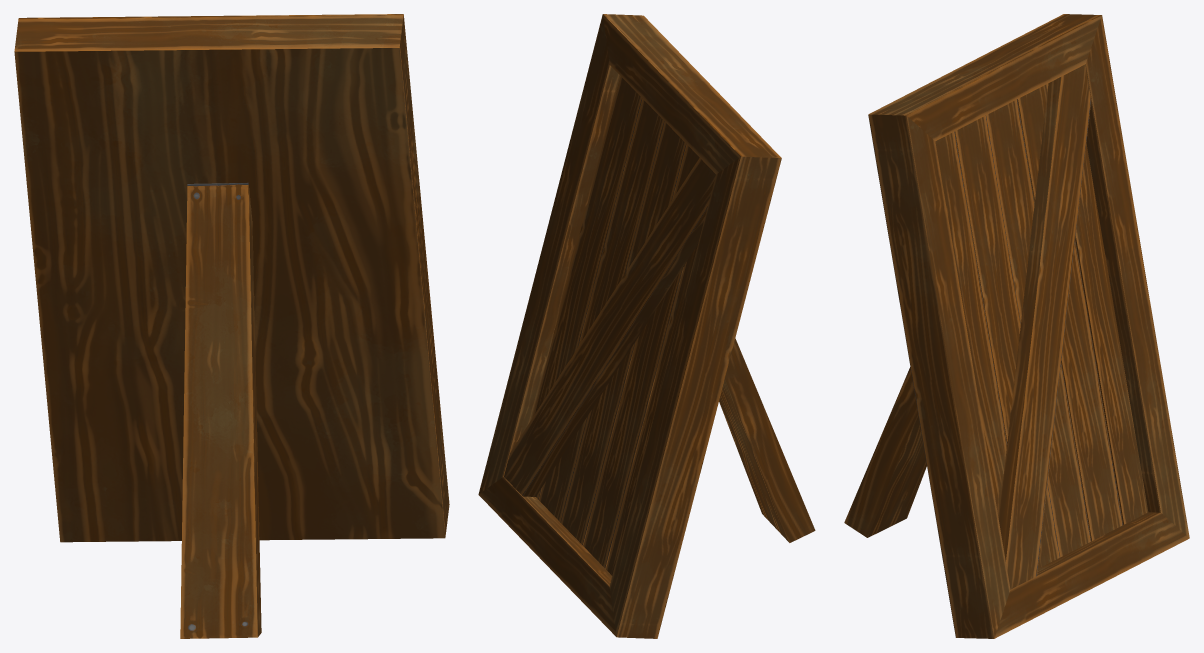
The picture shows the model from 3 angles, left to right: view 1: azimuth 30°, elevation 25°; view 2: azimuth 150°, elevation 25°; view 3: azimuth 270°, elevation 25°; orthographic projection. The views are drawn at different scales.
Parts seen in each view (by area): view 1: Cube.1881; view 2: Cube.1881; view 3: Cube.1881.
Boxes of the visible parts, <box> form: Cube.1881: <box>14,14,449,638</box>; Cube.1881: <box>478,14,815,638</box>; Cube.1881: <box>844,14,1189,638</box>.
Size of the model in its own units: 247 by 347 by 214.
1 material, 1 textured.
